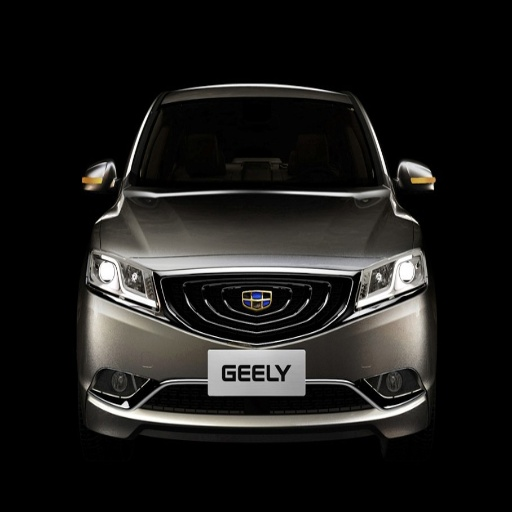front_bumper: (83, 259, 428, 430)
front_right_light: (88, 233, 165, 317)
hood: (106, 188, 411, 270)
left_mirror: (396, 161, 435, 201)
